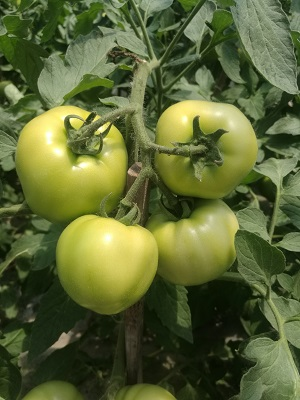immature-tomato: (16, 105, 130, 220), (154, 96, 258, 200), (57, 212, 160, 316), (155, 201, 238, 286)
